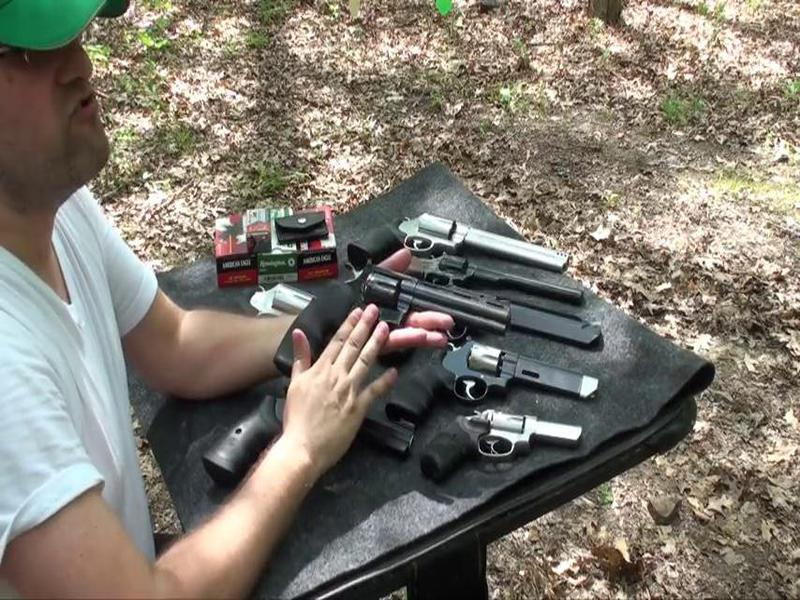Revolver: (305, 241, 507, 391)
